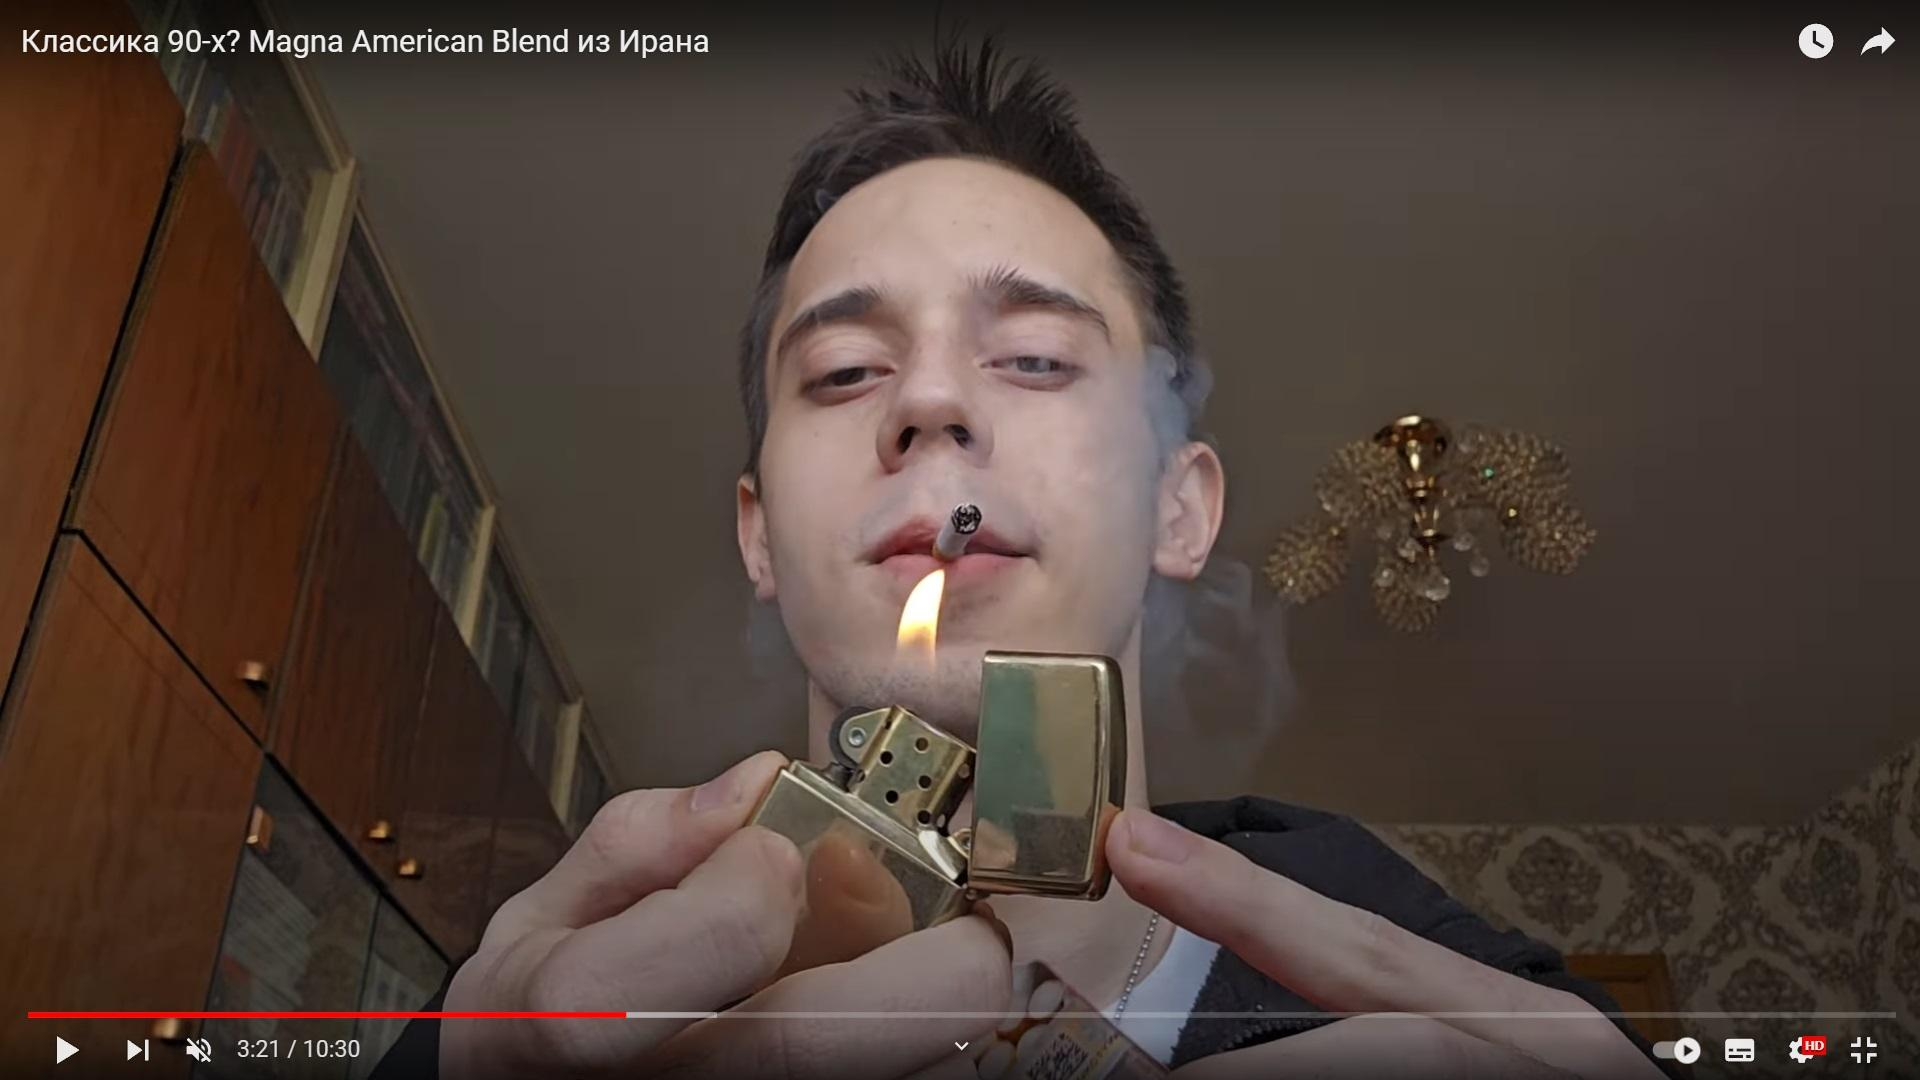cigarette: (931, 502, 982, 562)
